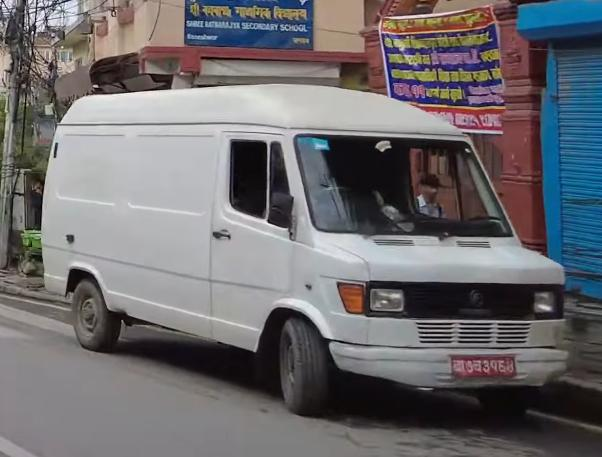micro_bus: (37, 77, 583, 430)
